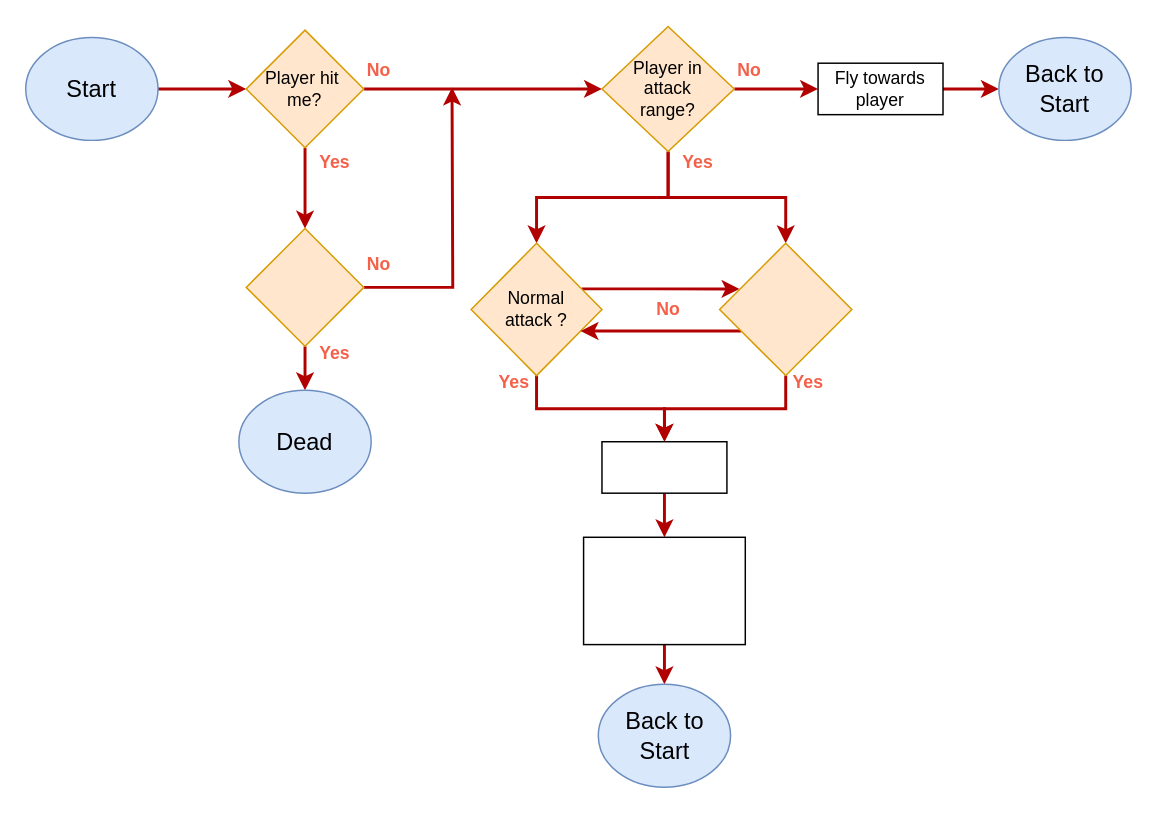
Image size: 1157x813. Some labels were removed from this diagram. Here are the shapes that lost their labels. From the top down, the centre of each, then its label:
pixel 304 286: HP = 0 ?
pixel 785 309: 1 / 3 Charged attack ?
pixel 663 466: Attack player
pixel 663 590: Move X units in a random direction, remaining in range
